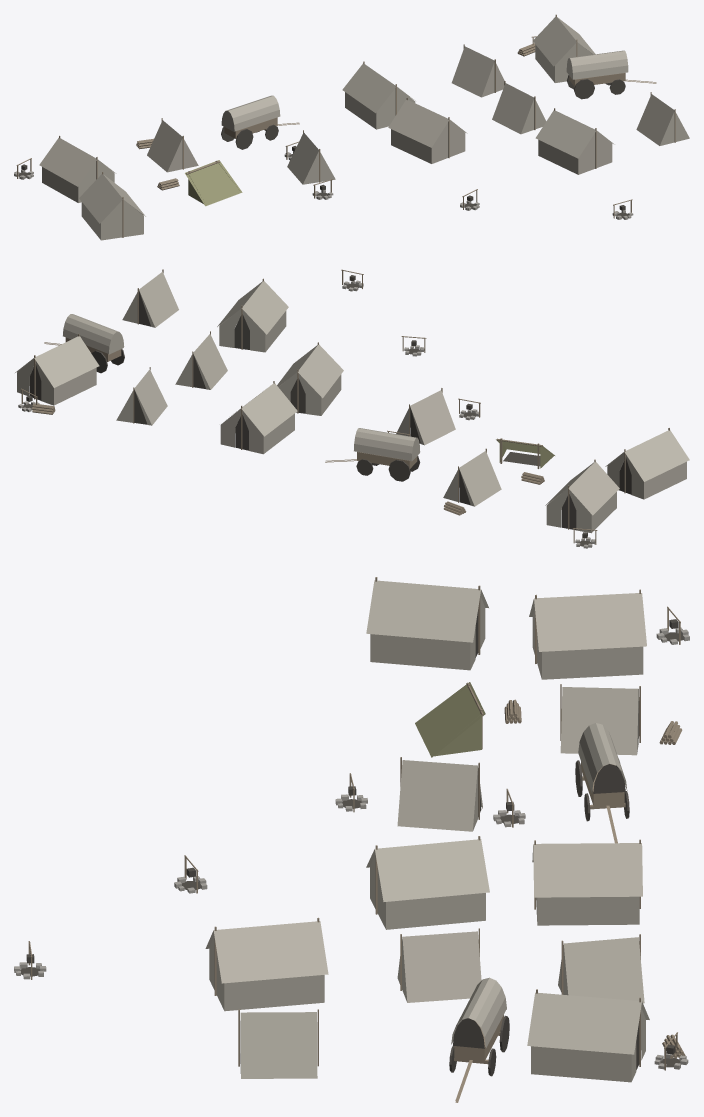
File: emigrant_camp_shore__camp_1835.glb
3 views of the same model, one above another, from view 1: azimuth 30°, elevation 25°; view 2: azimuth 150°, elevation 25°; view 3: azimuth 270°, elevation 25° (orthographic). The views are drawn at different scales.
Parts seen in each view (by area): view 1: emigrant_camp_shore__camp_1835; view 2: emigrant_camp_shore__camp_1835; view 3: emigrant_camp_shore__camp_1835.
Part boxes in pixels (box(x1,y1,x2,y2)): emigrant_camp_shore__camp_1835: box(14, 14, 689, 240); emigrant_camp_shore__camp_1835: box(15, 269, 689, 548); emigrant_camp_shore__camp_1835: box(14, 577, 689, 1102).
Bounding box in the file's own units: 40.3 × 2.71 × 24.21.
